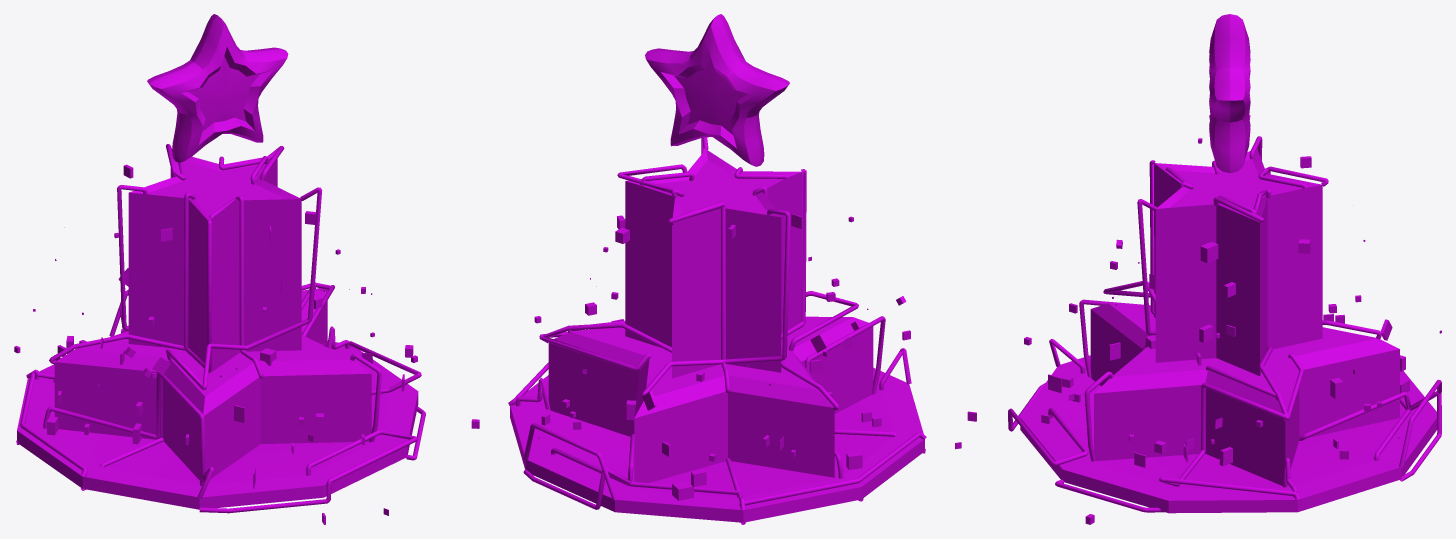
The model's file is LuminaPodium.fbx.
3 views of the same model, side by side, from view 1: azimuth 30°, elevation 25°; view 2: azimuth 150°, elevation 25°; view 3: azimuth 270°, elevation 25° (orthographic). The views are drawn at different scales.
Visible parts, largest first — view 1: Podium_Base, Pipes, Star, Rocks; view 2: Podium_Base, Pipes, Star, Rocks; view 3: Podium_Base, Pipes, Star, Rocks.
Part boxes in pixels (left/top/right/bottom): Podium_Base: left=17, top=152, right=418, bottom=509; Pipes: left=16, top=144, right=425, bottom=513; Star: left=147, top=14, right=288, bottom=162; Rocks: left=14, top=164, right=479, bottom=524; Podium_Base: left=510, top=149, right=924, bottom=522; Pipes: left=508, top=137, right=926, bottom=524; Star: left=645, top=14, right=789, bottom=166; Rocks: left=534, top=213, right=910, bottom=500; Podium_Base: left=1020, top=148, right=1437, bottom=513; Pipes: left=1008, top=136, right=1441, bottom=512; Star: left=1209, top=14, right=1250, bottom=173; Rocks: left=955, top=138, right=1441, bottom=524.
Size of the model in its own units: 448 by 481 by 509.
